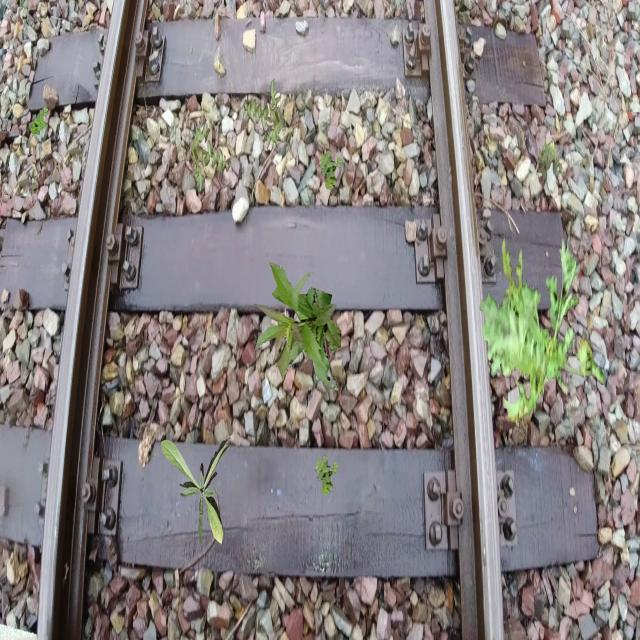Plant: (480, 235, 605, 431), (253, 262, 342, 392), (161, 438, 232, 546), (188, 122, 230, 194), (243, 78, 284, 150), (537, 138, 563, 180), (319, 150, 343, 191), (315, 455, 339, 496), (29, 106, 48, 138)
